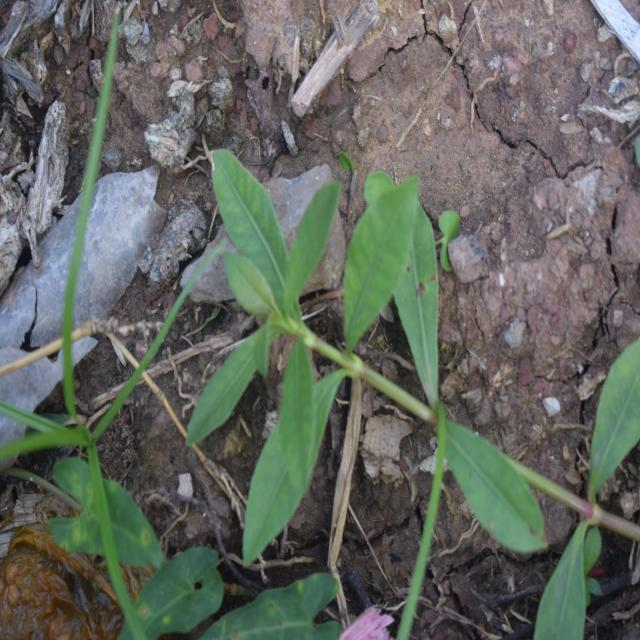Alligatorweed: (186, 146, 539, 541)
